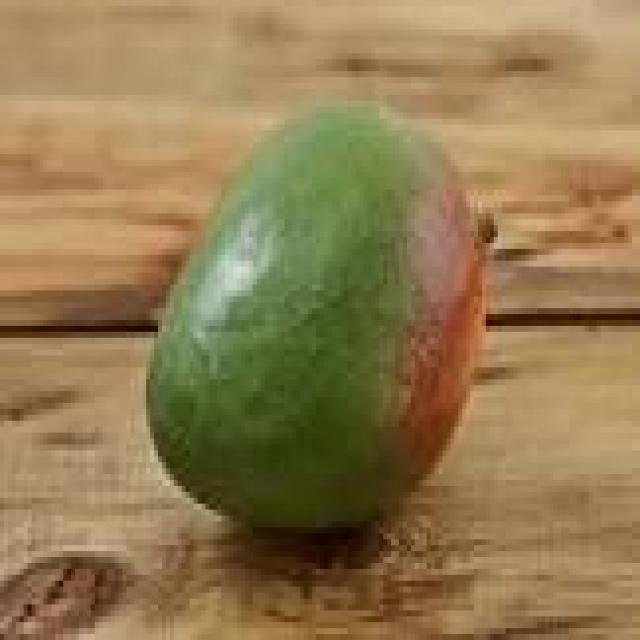mango: (149, 103, 484, 529)
